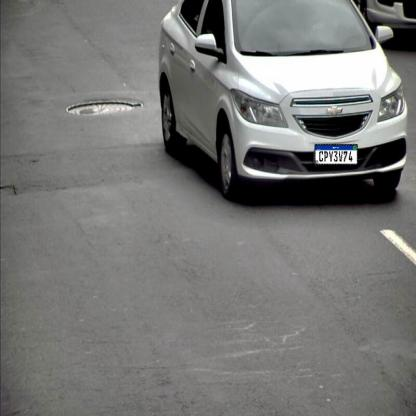PlacaM: (314, 144, 358, 165)
